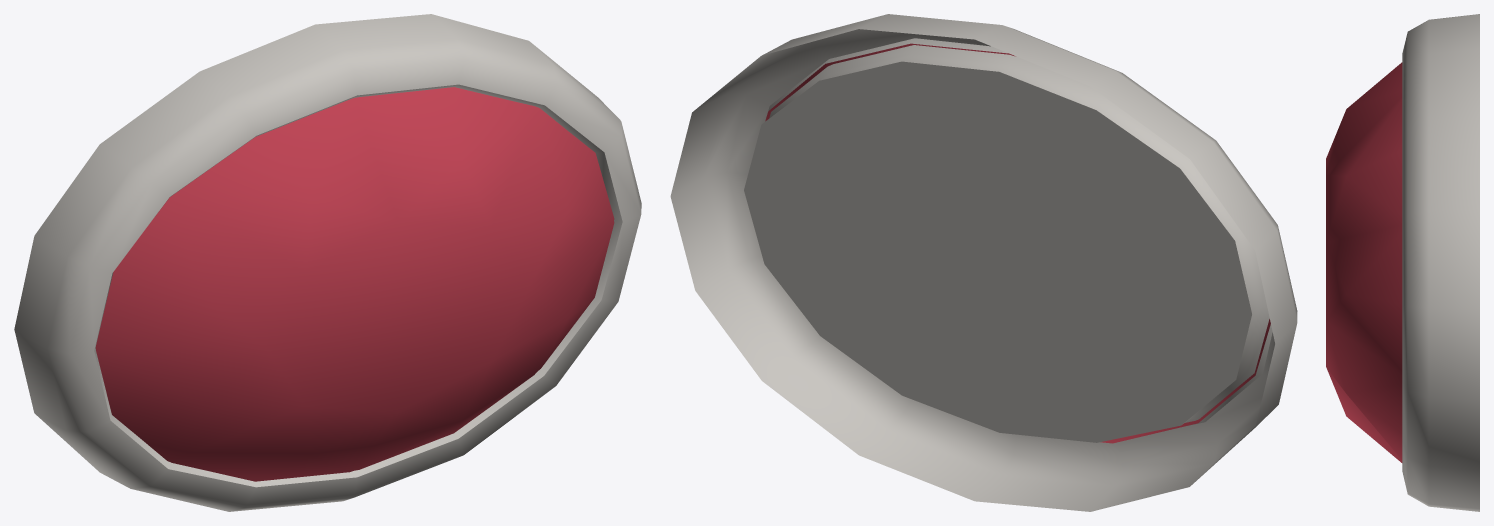
File: gem_oval.glb
The picture shows the model from 3 angles, left to right: view 1: azimuth 30°, elevation 25°; view 2: azimuth 150°, elevation 25°; view 3: azimuth 270°, elevation 25°; orthographic projection. The views are drawn at different scales.
Parts seen in each view (by area): view 1: gem_oval; view 2: gem_oval; view 3: gem_oval.
Boxes of the visible parts, x1,y1,x2,y2 form: gem_oval: (14, 14, 641, 511); gem_oval: (670, 14, 1297, 511); gem_oval: (1326, 14, 1479, 511).
Bounding box in the file's own units: 0.0183 × 0.0134 × 0.00437.
